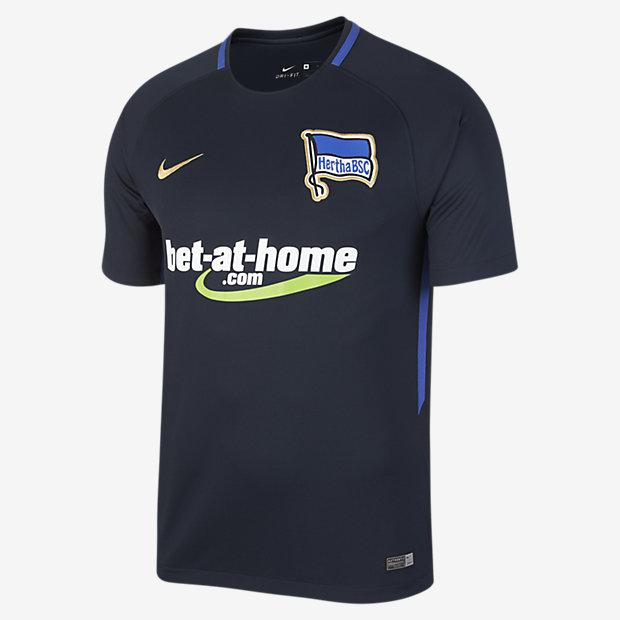teeshirt: (61, 11, 511, 620)
